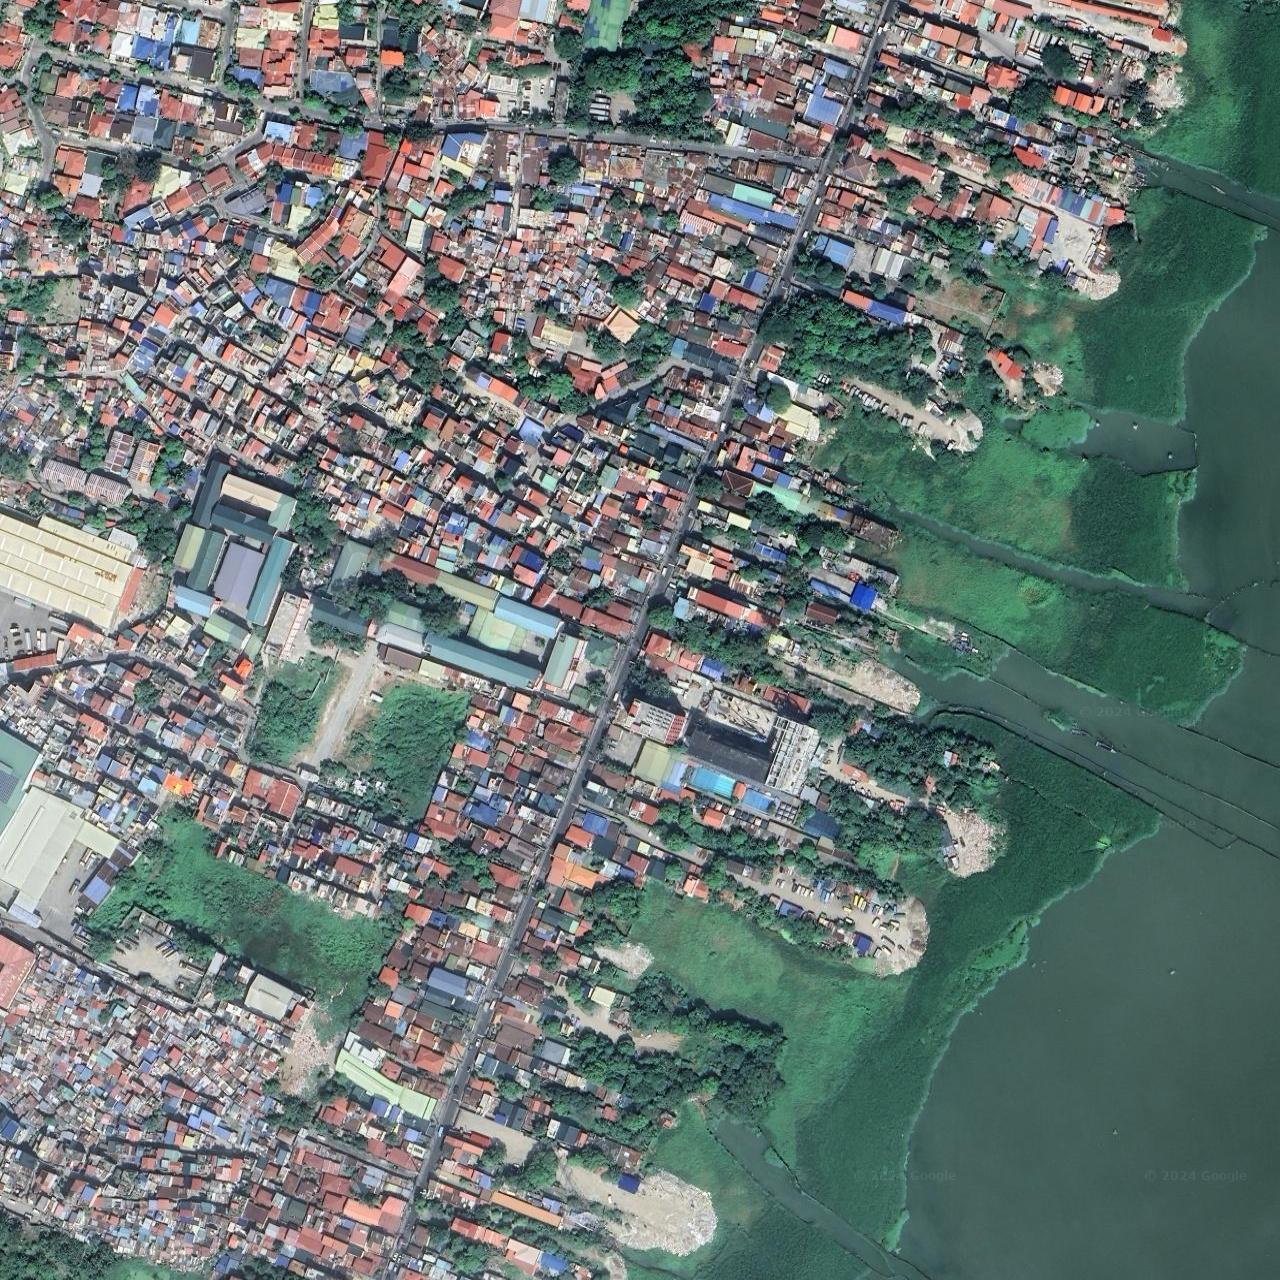greenery: (530, 4, 1275, 1280), (110, 806, 396, 1022), (94, 813, 394, 1013), (232, 666, 477, 822), (559, 1, 722, 144), (4, 1214, 178, 1280)
house: (0, 1, 1189, 518), (1, 225, 817, 904), (0, 729, 615, 1280), (360, 914, 604, 1124), (0, 735, 162, 938)
water: (903, 8, 1278, 1280)
